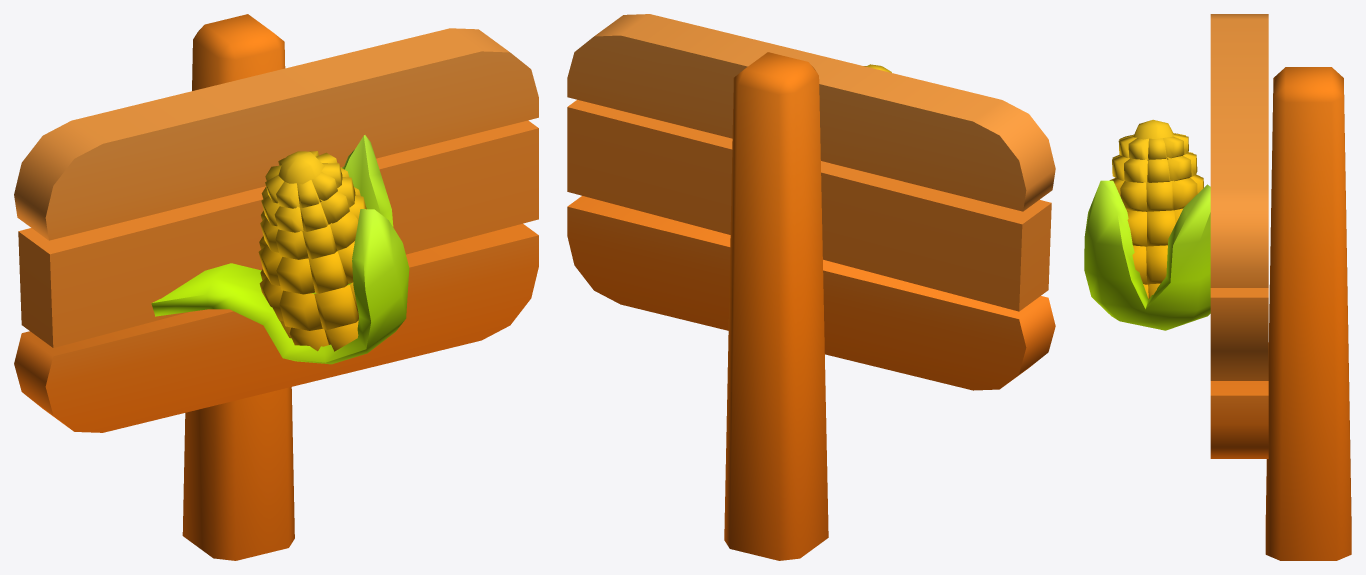
File: Farm_Crop_Sign_Corn_01.fbx
The picture shows the model from 3 angles, left to right: view 1: azimuth 30°, elevation 25°; view 2: azimuth 150°, elevation 25°; view 3: azimuth 270°, elevation 25°; orthographic projection. The views are drawn at different scales.
Visible parts, largest first — view 1: Farm_Crop_Sign_Corn_01; view 2: Farm_Crop_Sign_Corn_01; view 3: Farm_Crop_Sign_Corn_01.
Boxes of the visible parts, x1=… form: Farm_Crop_Sign_Corn_01: x1=14, y1=14, x2=538, y2=560; Farm_Crop_Sign_Corn_01: x1=567, y1=14, x2=1055, y2=560; Farm_Crop_Sign_Corn_01: x1=1084, y1=14, x2=1351, y2=560.
Bounding box in the file's own units: 90.11 × 88.8 × 46.19.
